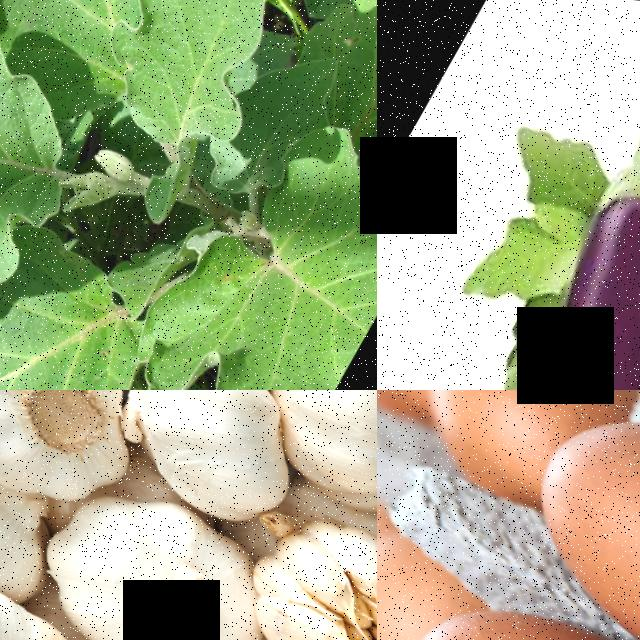egg_: (494, 390, 640, 640), (393, 390, 622, 515), (377, 536, 640, 640), (377, 504, 487, 640)
eggplant: (563, 95, 640, 390), (468, 271, 640, 390)
garlic: (17, 445, 285, 640), (80, 390, 325, 533), (226, 483, 377, 640), (0, 390, 157, 529), (241, 390, 377, 522)
